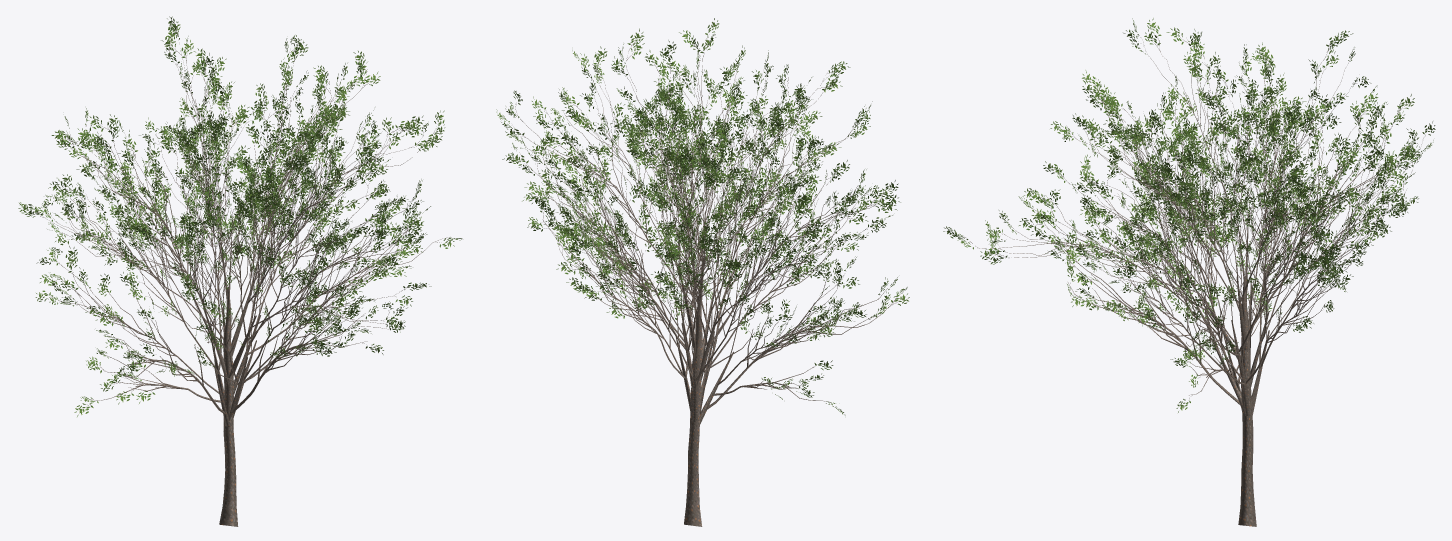
Rendered from ケヤキ.fbx.
The picture shows the model from 3 angles, left to right: view 1: azimuth 30°, elevation 25°; view 2: azimuth 150°, elevation 25°; view 3: azimuth 270°, elevation 25°; orthographic projection. The views are drawn at different scales.
Parts seen in each view (by area): view 1: keyaki_eda_2, keyaki2; view 2: keyaki_eda_2, keyaki2; view 3: keyaki_eda_2, keyaki2.
Boxes of the visible parts, x1,y1,x2,y2 form: keyaki_eda_2: [18, 16, 462, 416]; keyaki2: [38, 48, 447, 526]; keyaki_eda_2: [496, 18, 909, 415]; keyaki2: [515, 38, 897, 526]; keyaki_eda_2: [943, 18, 1435, 412]; keyaki2: [970, 34, 1421, 526].
Bounding box in the file's own units: 988 × 1100 × 1003.
Materials: 2 (2 with a texture image).
